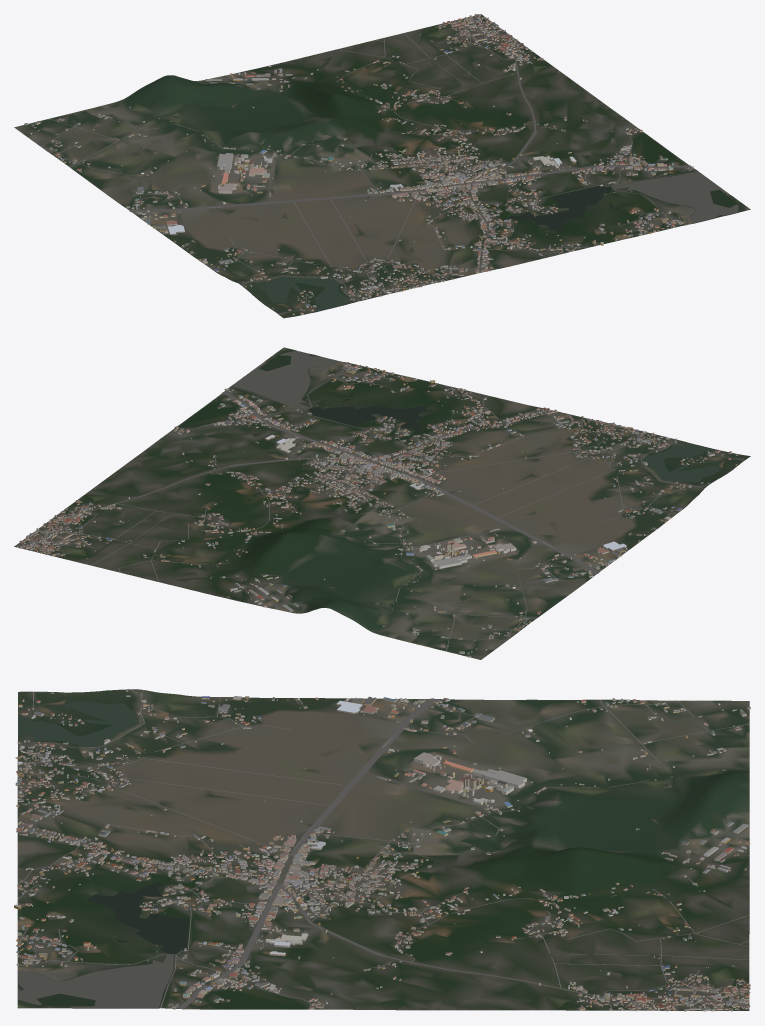
3 views of the same model, one above another, from view 1: azimuth 30°, elevation 25°; view 2: azimuth 150°, elevation 25°; view 3: azimuth 270°, elevation 25° (orthographic). The views are drawn at different scales.
Visible parts, largest first — view 1: ground, buildings, water, roads; view 2: ground, buildings, water, roads; view 3: ground, buildings, water, roads.
Part boxes in pixels (x1,y1,x2,y2): ground: [14, 14, 750, 318]; buildings: [24, 14, 693, 314]; water: [258, 145, 738, 312]; roads: [40, 16, 697, 313]; ground: [14, 347, 750, 659]; buildings: [17, 362, 737, 657]; water: [232, 351, 720, 489]; roads: [23, 363, 745, 651]; ground: [17, 689, 749, 1010]; buildings: [14, 690, 750, 1011]; water: [18, 701, 401, 1008]; roads: [17, 689, 749, 1010].
Bounding box in the file's own units: 2816 × 104 × 2823.
